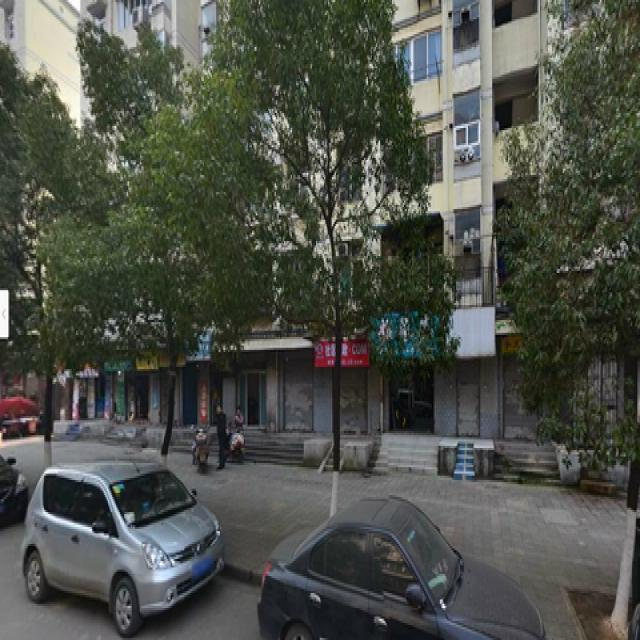cinn: (247, 24, 410, 488), (100, 34, 207, 459), (9, 86, 87, 457)
